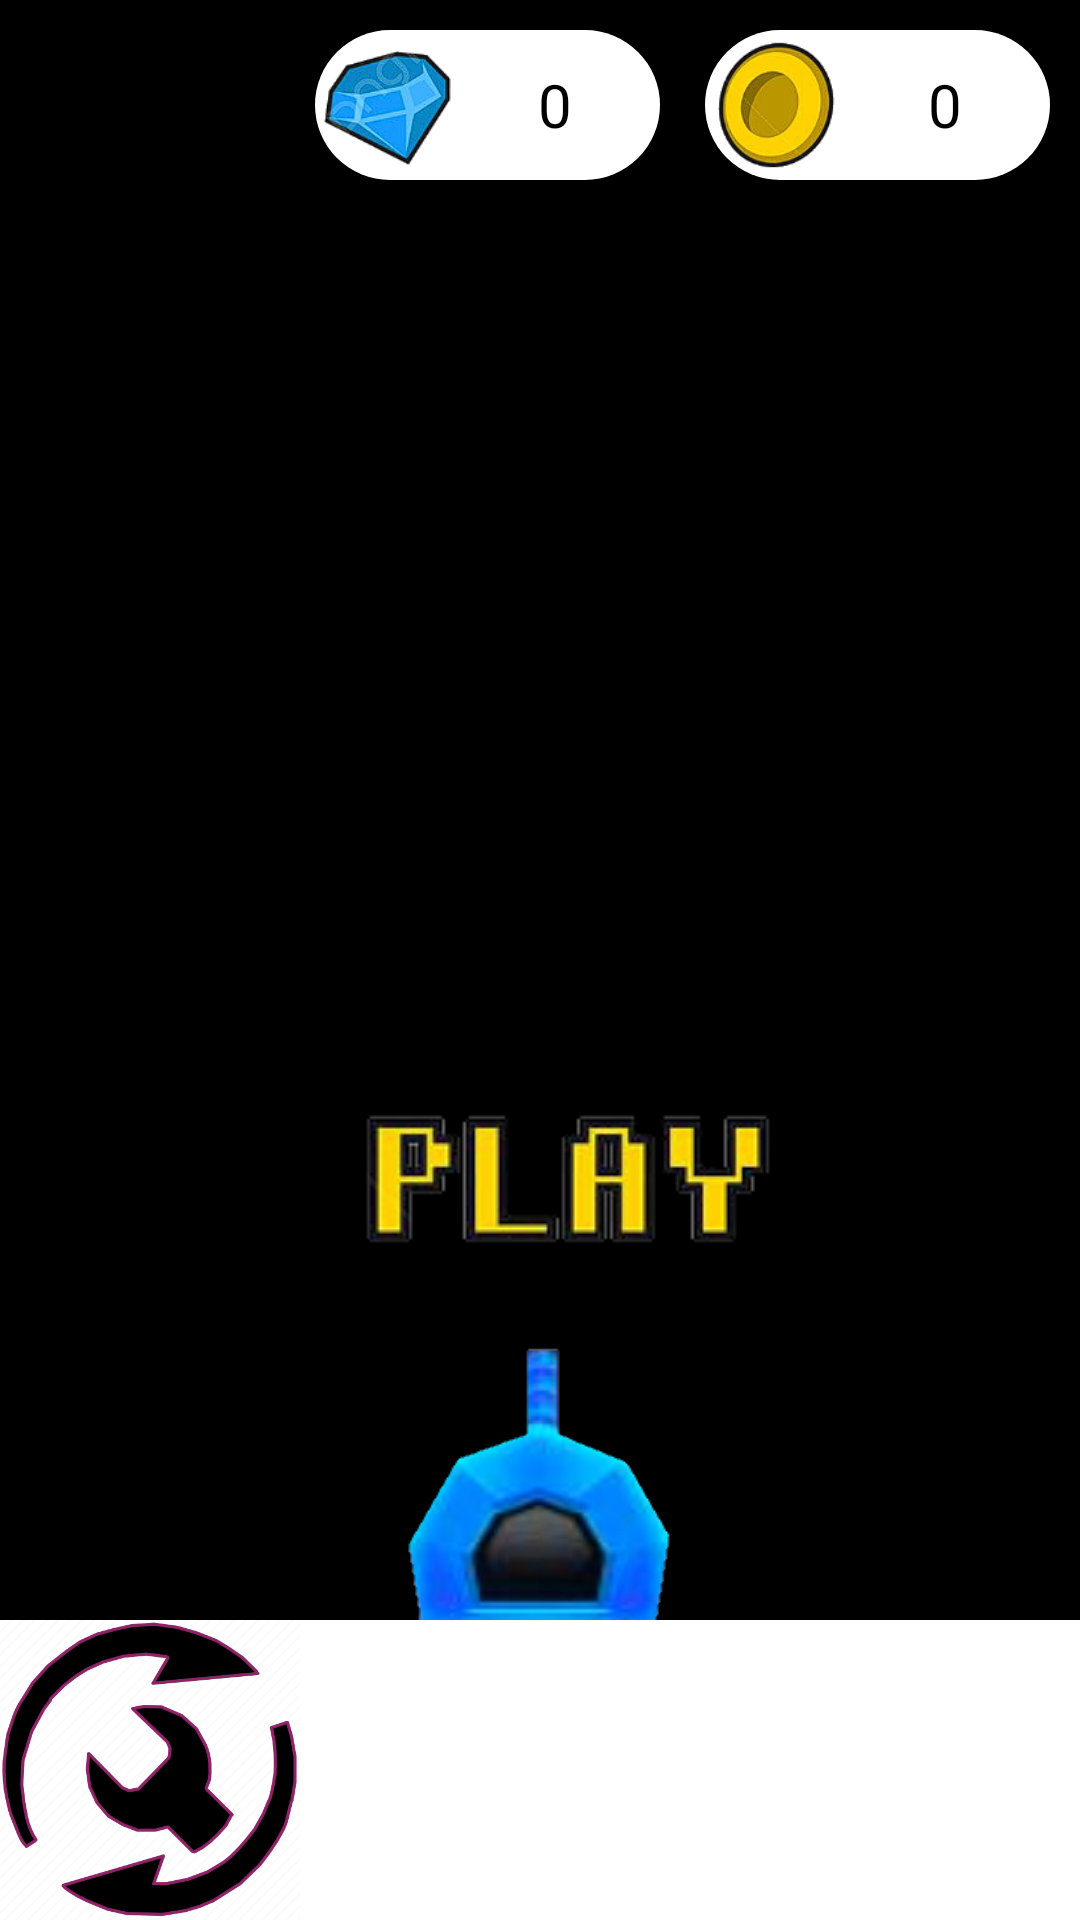

Icon bounding boxes for this 1080×1920 phone screenshot, format (x1, y1, x2, y2):
coin: (705, 30, 855, 180)
gem: (315, 30, 465, 180)
upgrade: (2, 1622, 297, 1916)
weapon: (408, 1348, 670, 1620)
